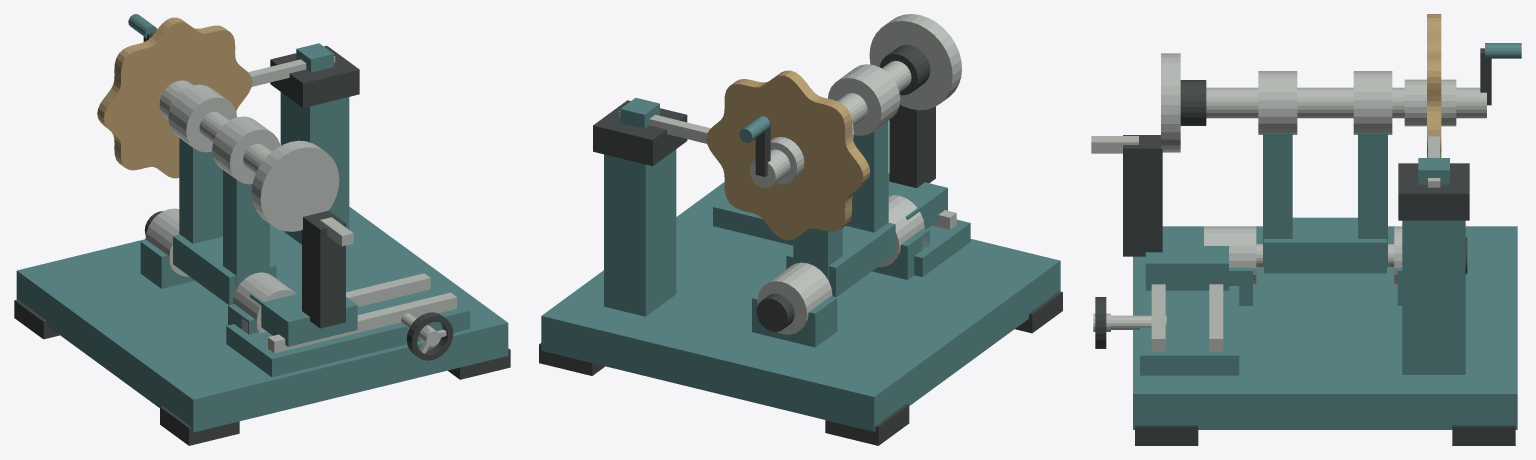
3 views of the same model, side by side, from view 1: azimuth 30°, elevation 25°; view 2: azimuth 150°, elevation 25°; view 3: azimuth 270°, elevation 25° (orthographic). The views are drawn at different scales.
Parts seen in each view (by area): view 1: WholeCommonBed, WholeEightLobedRosette, WholeFrontSlideBase, WholeBlankFrontFaceplate, WholeSideStopPedestal, WholeFrontToolPost, WholeRockingHeadCheek_0.12, WholeRockingHeadCheek_-0.12, WholeSideStopUpperCap, WholeTransverseSlideCarriage, WholeRockingLowerTie, WholeUpperSpindleBearing_0.12 (+16 smaller); view 2: WholeCommonBed, WholeEightLobedRosette, WholeSideStopPedestal, WholeBlankFrontFaceplate, WholeFrontToolPost, WholeSideStopUpperCap, WholeFrontSlideBase, WholeRockingHeadCheek_-0.12, WholeRockingLowerTie, WholeUpperSpindleBearing_-0.12, WholeBoredLowerBearing_0.24, WholeUpperParallelSpindle (+14 smaller); view 3: WholeCommonBed, WholeSideStopPedestal, WholeFrontSlideBase, WholeRockingLowerTie, WholeUpperParallelSpindle, WholeFrontToolPost, WholeTransverseSlideCarriage, WholeSideStopUpperCap, WholeRockingHeadCheek_-0.12, WholeRockingHeadCheek_0.12, WholeUpperSpindleBearing_-0.12, WholeUpperSpindleBearing_0.12 (+17 smaller).
Boxes of the visible parts, bbox=[...] form: WholeCommonBed: bbox=[16, 207, 508, 432]; WholeEightLobedRosette: bbox=[97, 17, 252, 178]; WholeFrontSlideBase: bbox=[226, 282, 470, 377]; WholeBlankFrontFaceplate: bbox=[251, 140, 339, 231]; WholeSideStopPedestal: bbox=[280, 92, 349, 244]; WholeFrontToolPost: bbox=[302, 210, 345, 328]; WholeRockingHeadCheek_0.12: bbox=[179, 138, 222, 243]; WholeRockingHeadCheek_-0.12: bbox=[223, 170, 269, 288]; WholeSideStopUpperCap: bbox=[270, 45, 359, 107]; WholeTransverseSlideCarriage: bbox=[250, 281, 357, 346]; WholeRockingLowerTie: bbox=[173, 234, 276, 304]; WholeUpperSpindleBearing_0.12: bbox=[168, 84, 236, 152]; WholeCommonBed: bbox=[541, 182, 1060, 431]; WholeEightLobedRosette: bbox=[706, 70, 870, 240]; WholeSideStopPedestal: bbox=[604, 149, 676, 316]; WholeBlankFrontFaceplate: bbox=[869, 14, 961, 110]; WholeFrontToolPost: bbox=[889, 105, 935, 188]; WholeSideStopUpperCap: bbox=[593, 100, 687, 166]; WholeFrontSlideBase: bbox=[713, 197, 970, 276]; WholeRockingHeadCheek_-0.12: bbox=[846, 121, 888, 232]; WholeRockingLowerTie: bbox=[786, 222, 895, 297]; WholeUpperSpindleBearing_-0.12: bbox=[828, 64, 900, 135]; WholeBoredLowerBearing_0.24: bbox=[757, 262, 832, 334]; WholeUpperParallelSpindle: bbox=[749, 60, 911, 187]; WholeCommonBed: bbox=[1133, 226, 1517, 429]; WholeSideStopPedestal: bbox=[1402, 220, 1465, 374]; WholeFrontSlideBase: bbox=[1140, 256, 1239, 375]; WholeRockingLowerTie: bbox=[1264, 217, 1386, 273]; WholeUpperParallelSpindle: bbox=[1206, 87, 1486, 118]; WholeFrontToolPost: bbox=[1123, 135, 1162, 256]; WholeTransverseSlideCarriage: bbox=[1145, 227, 1228, 290]; WholeSideStopUpperCap: bbox=[1398, 163, 1469, 220]; WholeRockingHeadCheek_-0.12: bbox=[1263, 133, 1292, 266]; WholeRockingHeadCheek_0.12: bbox=[1358, 133, 1387, 266]; WholeUpperSpindleBearing_-0.12: bbox=[1258, 71, 1297, 134]; WholeUpperSpindleBearing_0.12: bbox=[1353, 71, 1392, 134].
Size of the model in its own units: 1.02 by 0.896 by 1.09.
